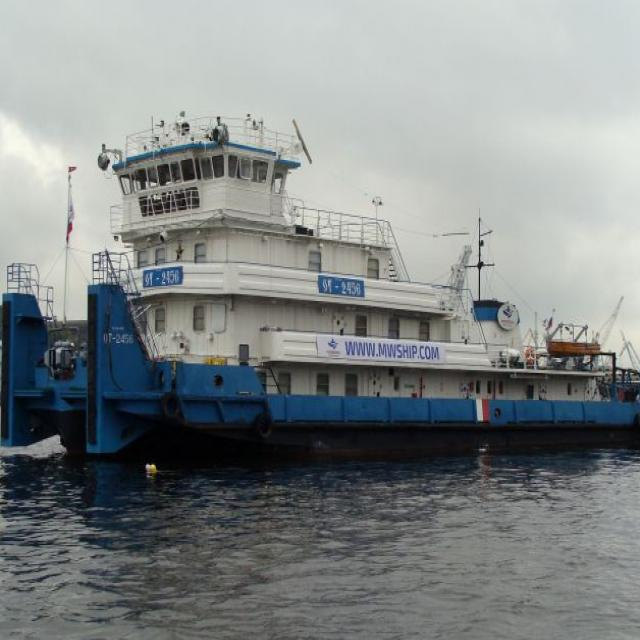tugboat: (1, 110, 640, 480)
